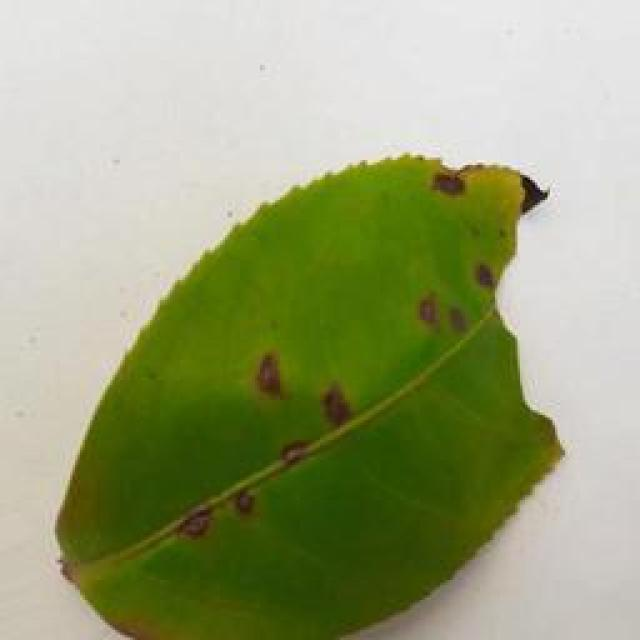Helopeltis: (59, 135, 562, 640)
